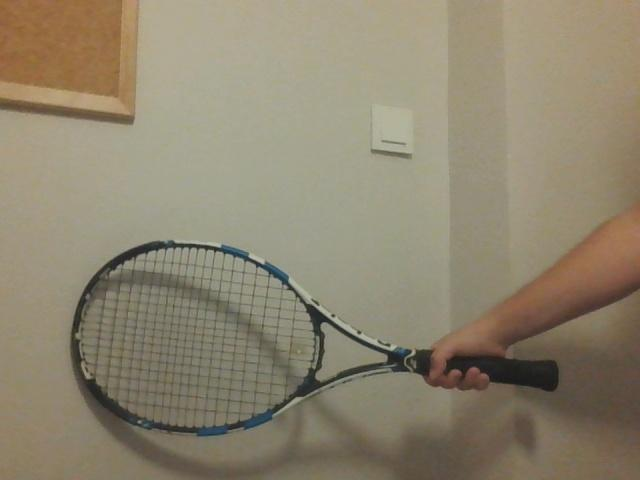Tennis-Racket: (69, 246, 561, 442)
